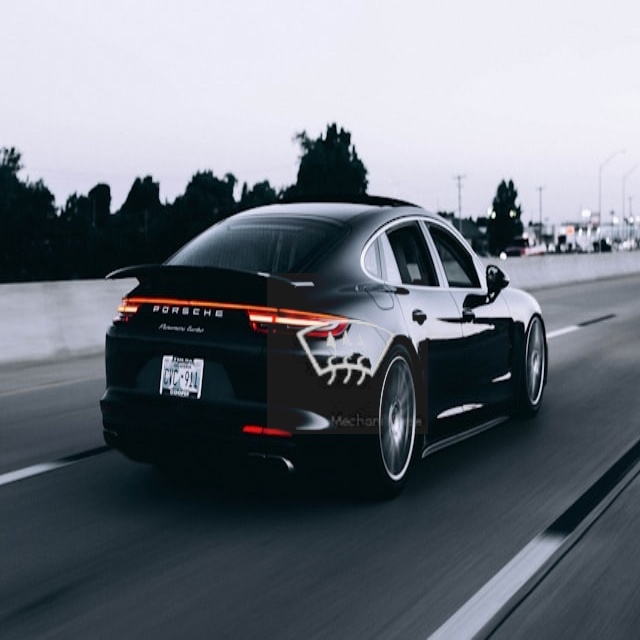symbol: (267, 273, 428, 434)
